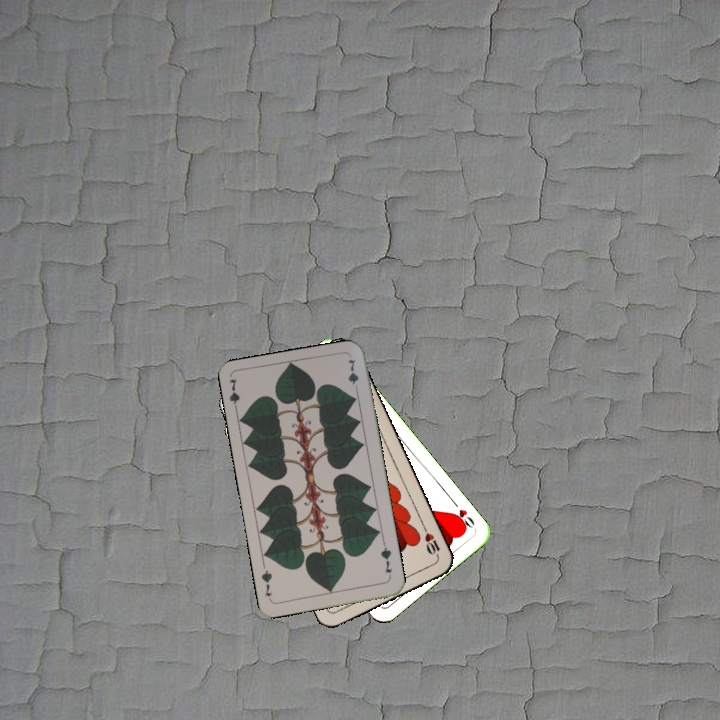G7: (377, 540, 395, 581), (225, 375, 242, 416)
H10: (419, 522, 442, 561)
HO: (448, 497, 478, 532)
